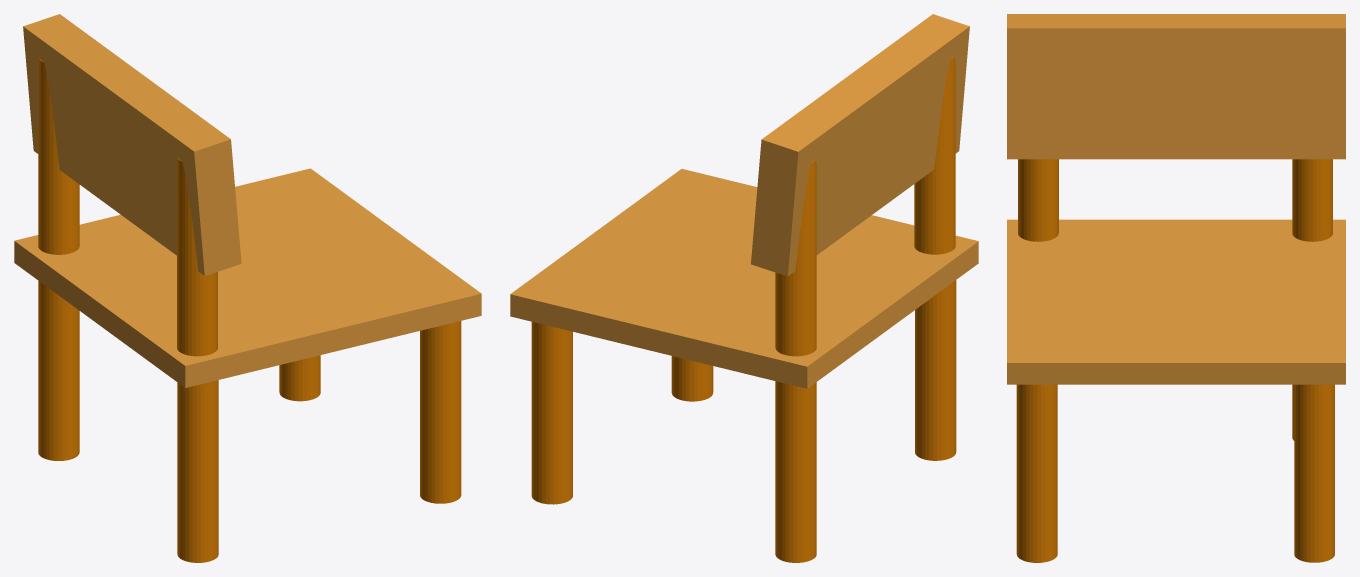
The model's file is chair.fbx.
3 views of the same model, side by side, from view 1: azimuth 30°, elevation 25°; view 2: azimuth 150°, elevation 25°; view 3: azimuth 270°, elevation 25° (orthographic).
Parts seen in each view (by area): view 1: Cube, Cube.001, Cylinder.001, Cylinder.003, Cylinder, Cylinder.005, Cylinder.004, Cylinder.002; view 2: Cube, Cube.001, Cylinder, Cylinder.002, Cylinder.001, Cylinder.005, Cylinder.004, Cylinder.003; view 3: Cube, Cube.001, Cylinder.003, Cylinder.002, Cylinder.004, Cylinder.005.
Part boxes in pixels (box(x1,y1,x2,y2)): Cube: box(14, 168, 481, 387); Cube.001: box(23, 14, 241, 275); Cylinder.001: box(177, 380, 218, 562); Cylinder.003: box(420, 321, 461, 503); Cylinder: box(38, 281, 79, 460); Cylinder.005: box(38, 59, 79, 254); Cylinder.004: box(177, 158, 217, 356); Cylinder.002: box(279, 355, 320, 401); Cube: box(510, 169, 978, 388); Cube.001: box(751, 14, 969, 276); Cylinder: box(775, 381, 816, 562); Cylinder.002: box(531, 322, 572, 504); Cylinder.001: box(915, 280, 956, 460); Cylinder.005: box(775, 160, 816, 356); Cylinder.004: box(914, 56, 955, 254); Cylinder.003: box(671, 356, 713, 401); Cube: box(1007, 219, 1345, 384); Cube.001: box(1007, 14, 1345, 159); Cylinder.003: box(1016, 384, 1057, 562); Cylinder.002: box(1294, 384, 1334, 562); Cylinder.004: box(1018, 159, 1058, 241); Cylinder.005: box(1292, 159, 1332, 241).
Size of the model in its own units: 277 by 377 by 277.
